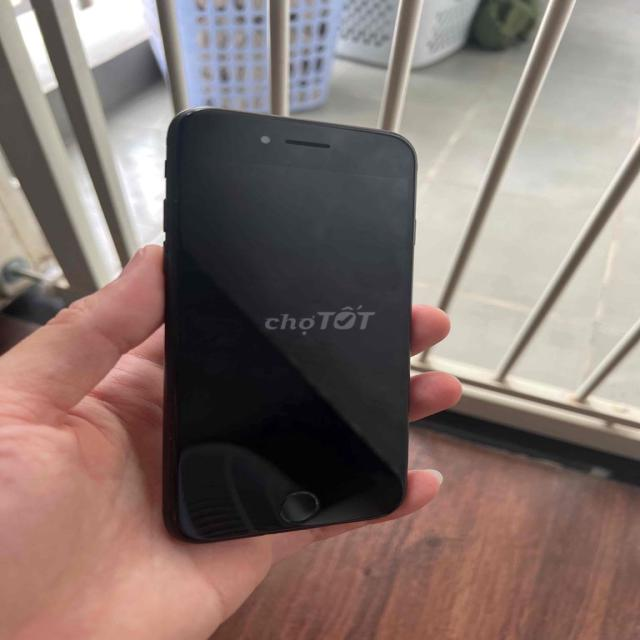gen_7_8: (156, 99, 425, 544)
